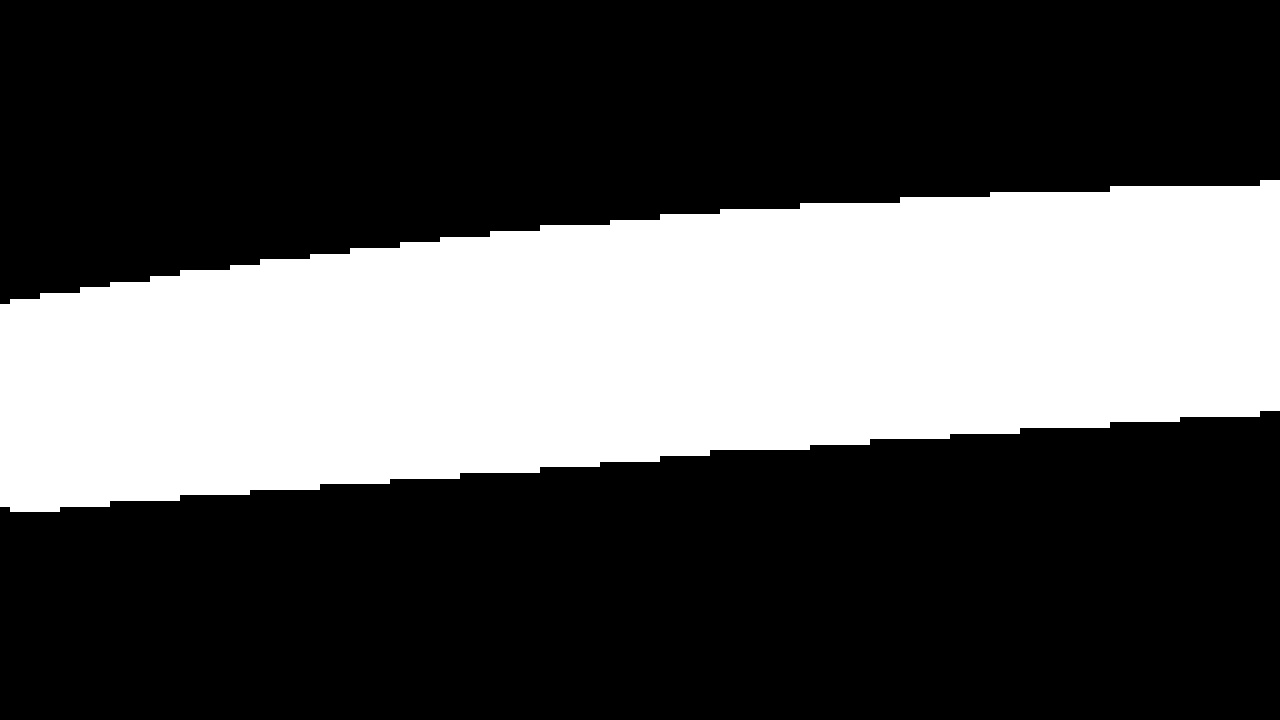Turbine: (5, 147, 1278, 525)
